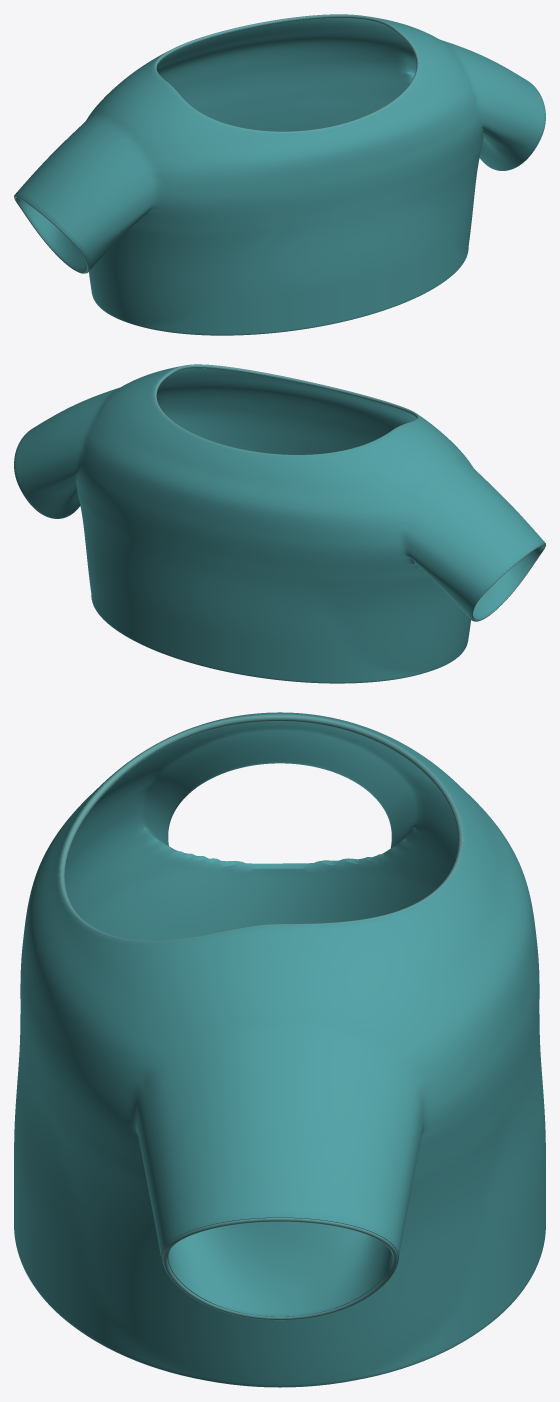
Rendered from Masculine-tshirt.glb.
3 renders of one model, top to bottom at view 1: azimuth 30°, elevation 25°; view 2: azimuth 150°, elevation 25°; view 3: azimuth 270°, elevation 25°, orthographic. The views are drawn at different scales.
Visible parts, largest first — view 1: Clothing / tshirt, Neckline / fitted crew export, Sleeve / soft cuff -1 export; view 2: Clothing / tshirt, Neckline / fitted crew export, Sleeve / soft cuff -1 export; view 3: Clothing / tshirt, Neckline / fitted crew export, Sleeve / soft cuff 1 export.
Boxes of the visible parts, bbox=[...] form: Clothing / tshirt: bbox=[14, 16, 545, 335]; Neckline / fitted crew export: bbox=[154, 14, 419, 132]; Sleeve / soft cuff -1 export: bbox=[14, 195, 89, 273]; Clothing / tshirt: bbox=[14, 366, 545, 682]; Neckline / fitted crew export: bbox=[154, 364, 419, 455]; Sleeve / soft cuff -1 export: bbox=[470, 543, 545, 621]; Clothing / tshirt: bbox=[14, 712, 545, 1386]; Neckline / fitted crew export: bbox=[59, 714, 463, 941]; Sleeve / soft cuff 1 export: bbox=[162, 1218, 397, 1320].
Bounding box in the file's own units: 0.9473 × 0.3898 × 0.4618.
